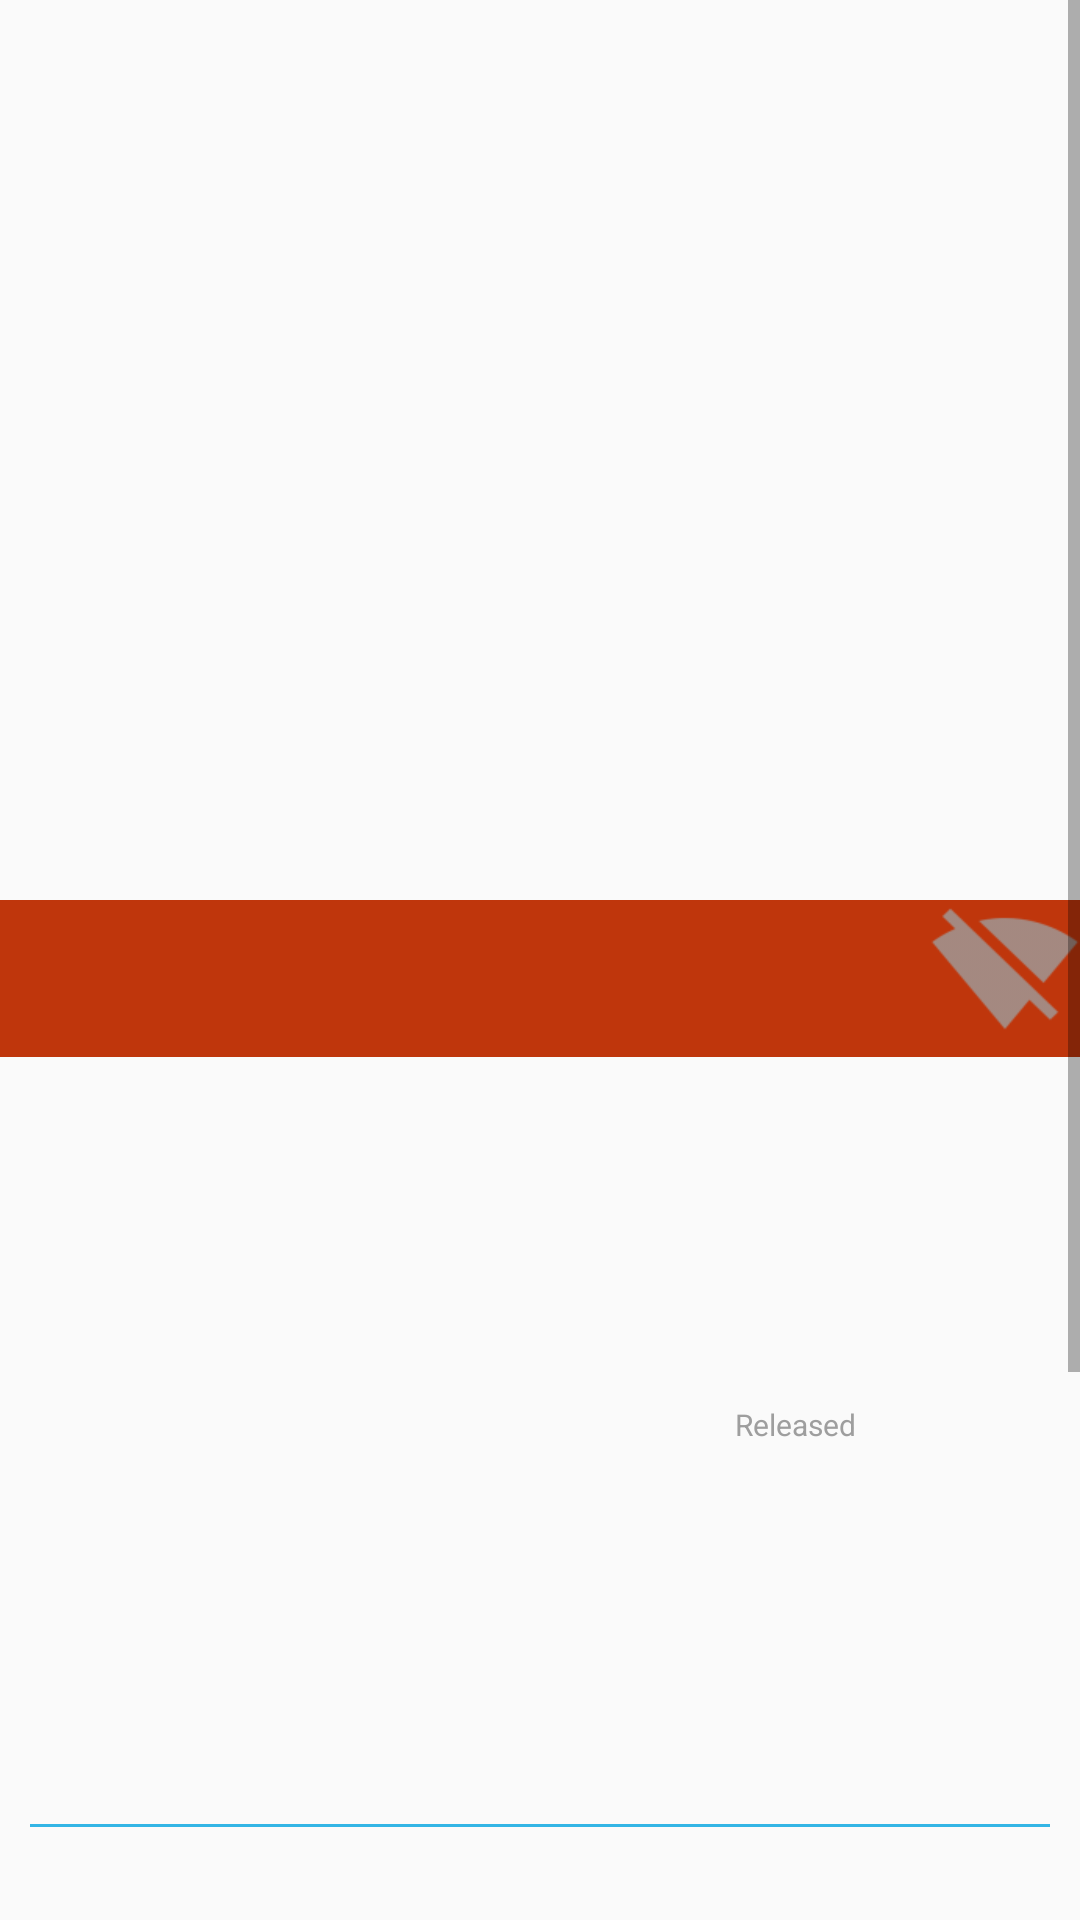

Point at icon controls on the screen. Image size 1080×1920, points as (x,y).
wifi off: (995,969)
